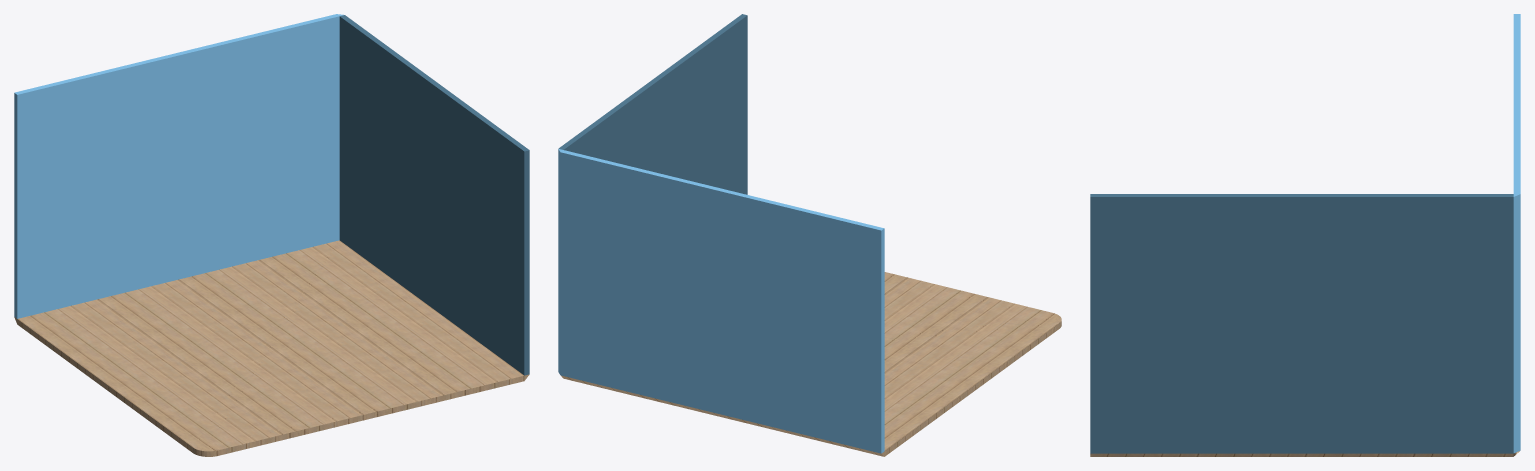
The model's file is Room.glb.
3 views of the same model, side by side, from view 1: azimuth 30°, elevation 25°; view 2: azimuth 150°, elevation 25°; view 3: azimuth 270°, elevation 25° (orthographic). The views are drawn at different scales.
Parts seen in each view (by area): view 1: Room; view 2: Room; view 3: Room.
Part boxes in pixels (x1,y1,x2,y2): Room: (14, 14, 529, 456); Room: (558, 14, 1061, 456); Room: (1090, 14, 1520, 456).
Bounding box in the file's own units: 3.06 × 2.05 × 3.04.
Materials: 3 (1 with a texture image).
